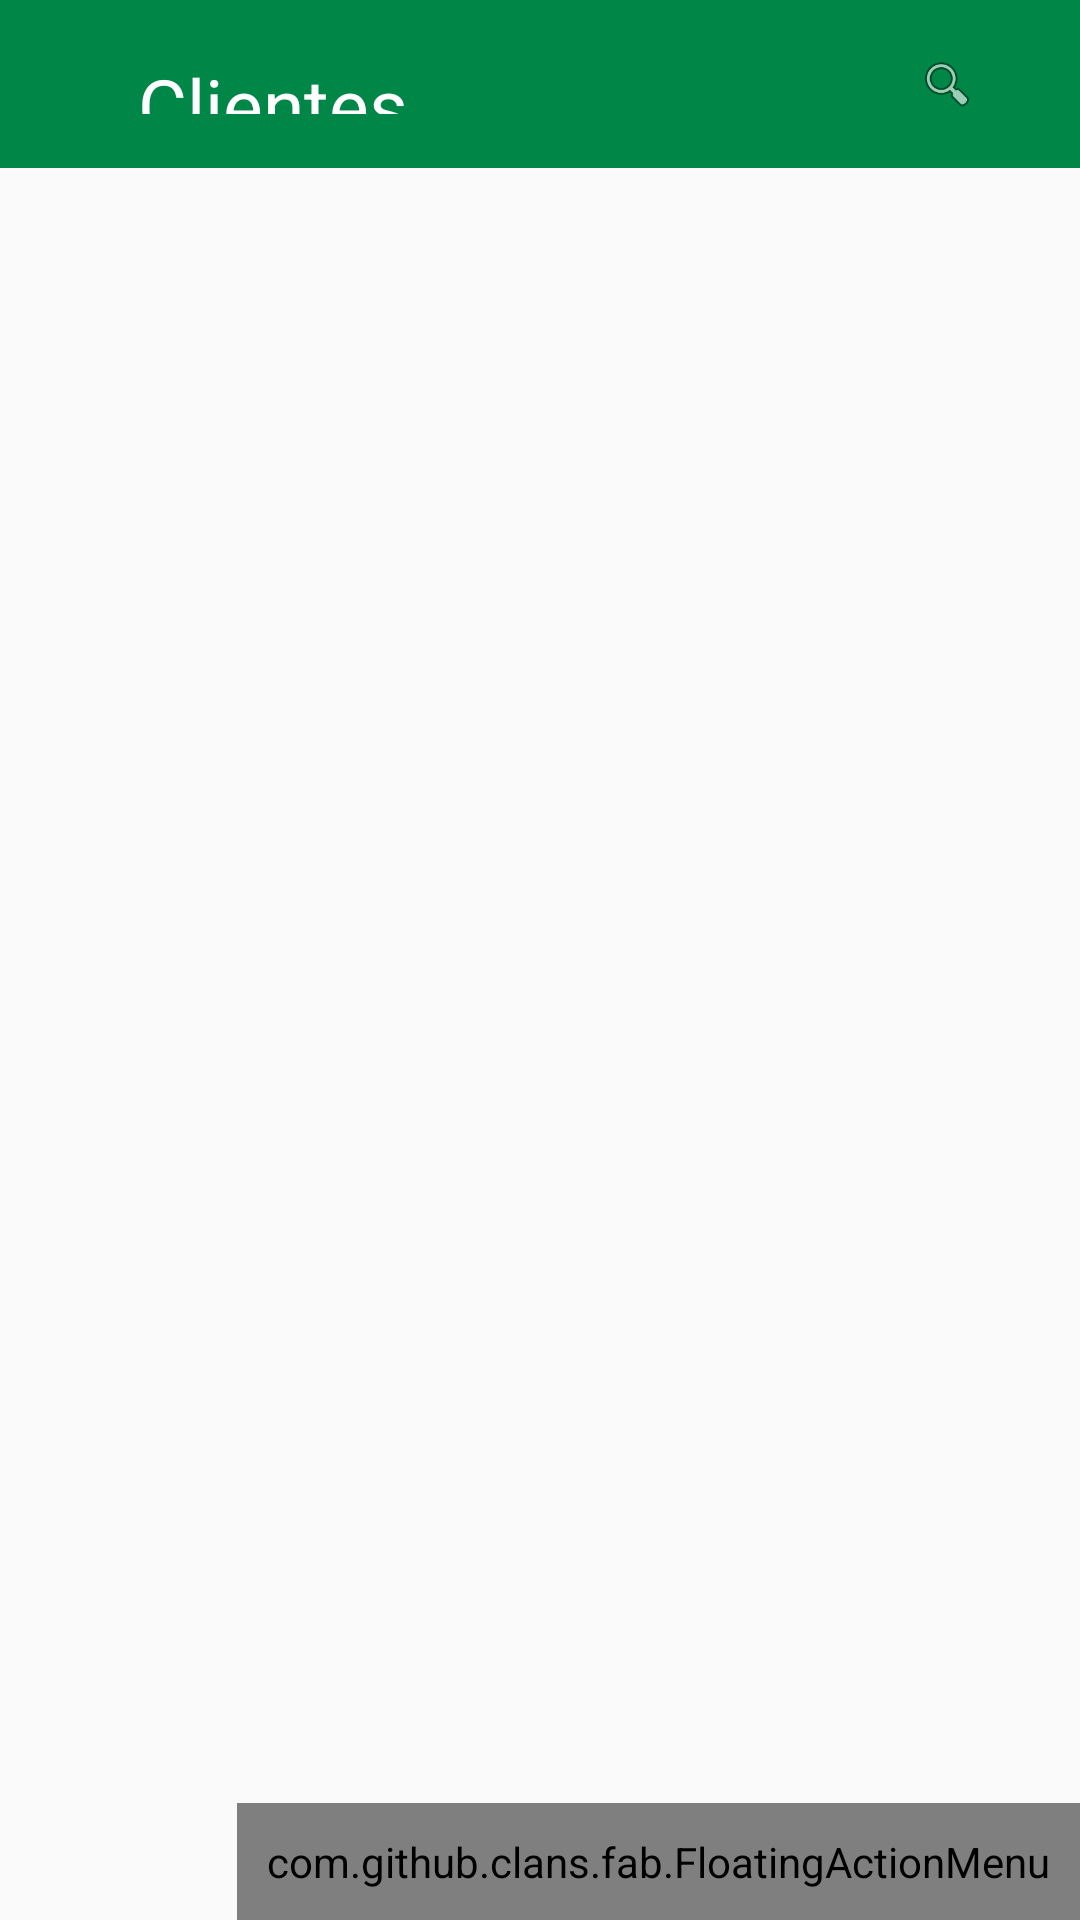

Named icons in this screenshot (1080*1920) and their bounding boxes, bbox=(x1, y1, x2, y2):
search: bbox=(925, 62, 969, 106)
